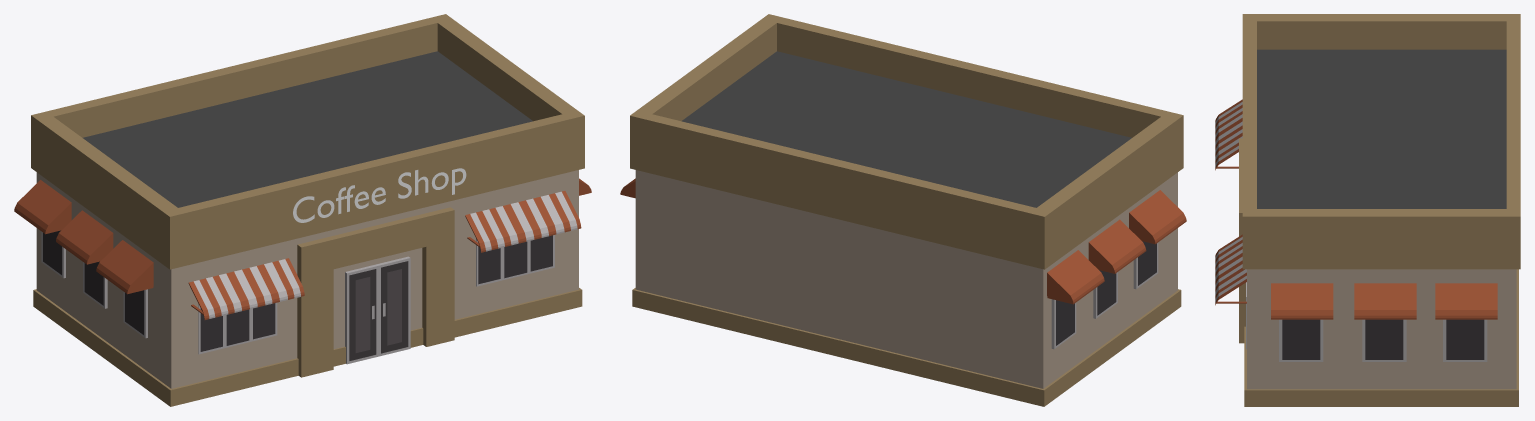
Rendered from Building_CoffeeShop.fbx.
3 views of the same model, side by side, from view 1: azimuth 30°, elevation 25°; view 2: azimuth 150°, elevation 25°; view 3: azimuth 270°, elevation 25° (orthographic).
Parts seen in each view (by area): view 1: Cube, Text; view 2: Cube; view 3: Cube.
Part boxes in pixels (x1=…): Cube: x1=14, y1=14, x2=591, y2=406; Text: x1=293, y1=168, x2=466, y2=222; Cube: x1=620, y1=14, x2=1186, y2=406; Cube: x1=1215, y1=14, x2=1520, y2=406.
Size of the model in its own units: 2547 by 1014 by 1468.
